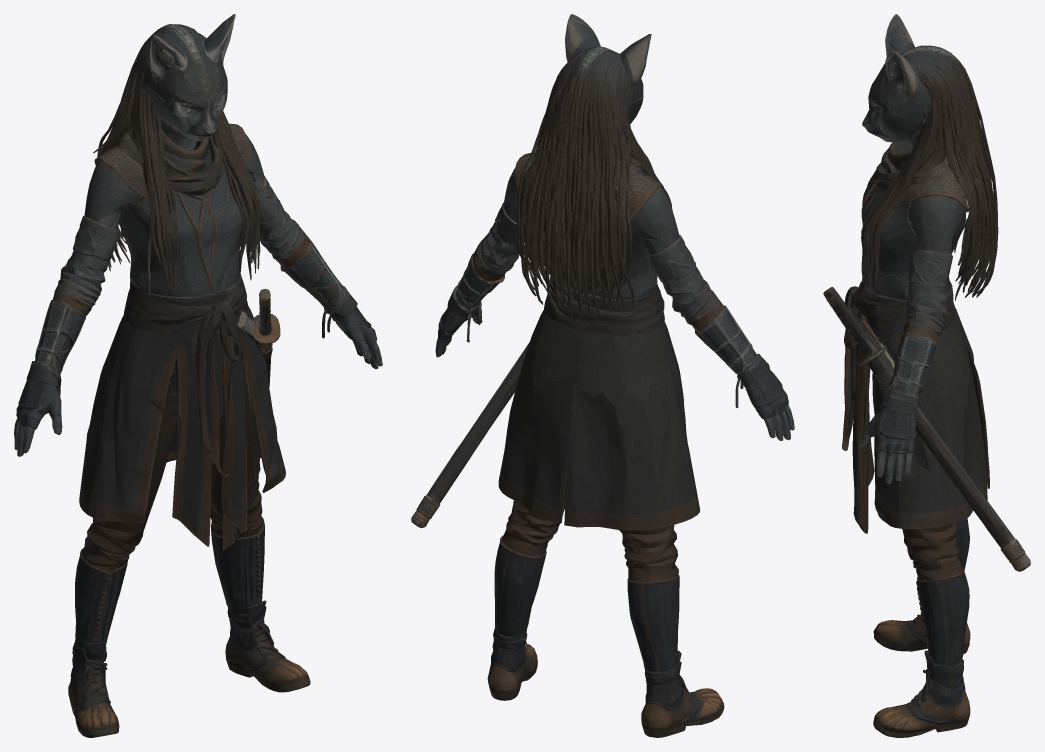
The model's file is forest_kitsune_refine.glb.
3 renders of one model, left to right at view 1: azimuth 30°, elevation 25°; view 2: azimuth 150°, elevation 25°; view 3: azimuth 270°, elevation 25°, orthographic. The views are drawn at different scales.
Bounding box in the file's own units: 1.05 × 1.9 × 0.5475.
1 material, 1 textured.
